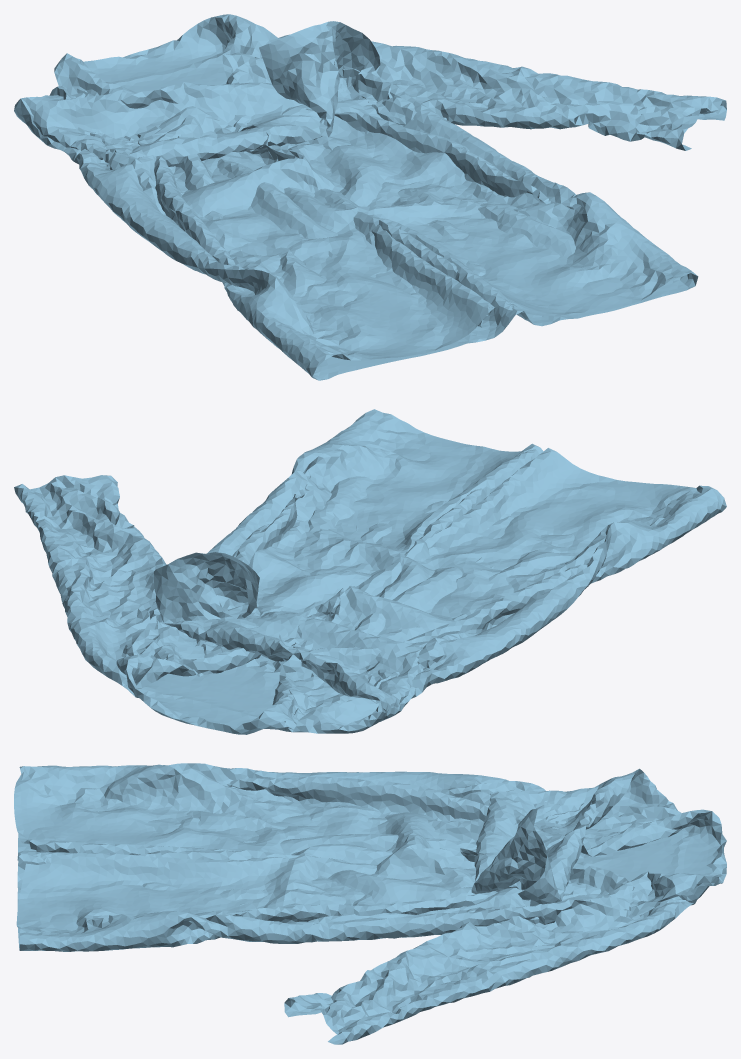
Rendered from frame_00.glb.
3 views of the same model, one above another, from view 1: azimuth 30°, elevation 25°; view 2: azimuth 150°, elevation 25°; view 3: azimuth 270°, elevation 25° (orthographic). The views are drawn at different scales.
Parts seen in each view (by area): view 1: frame_00.obj; view 2: frame_00.obj; view 3: frame_00.obj.
Part boxes in pixels (x1,y1,x2,y2): frame_00.obj: (14,14,726,380); frame_00.obj: (14,409,726,734); frame_00.obj: (14,763,726,1044).
Size of the model in its own units: 1.46 by 0.2192 by 1.65.
